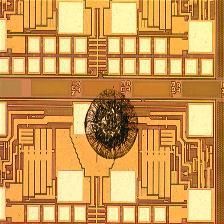PARTICLE: (83, 88, 142, 162)
